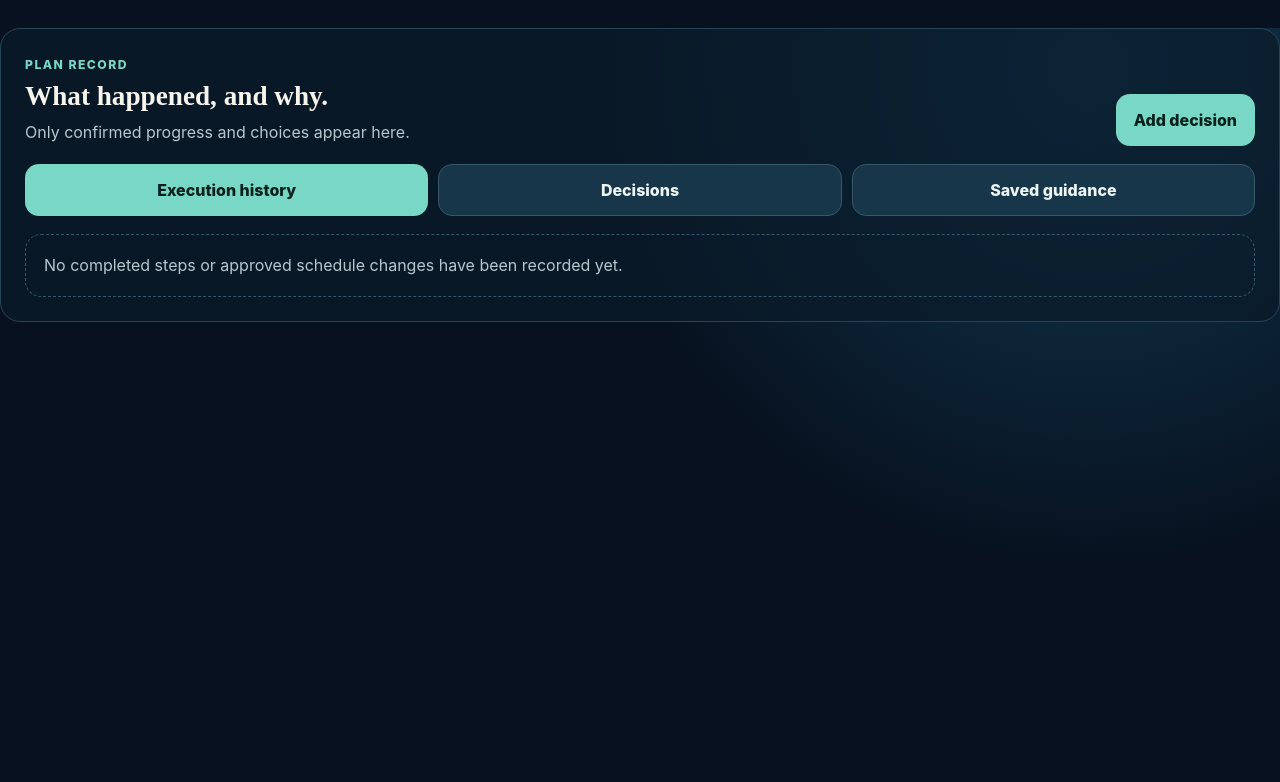
Test case: PlanRecordSection › keeps the decision draft through cancellation and performs no write
Check: the text "No completed steps" is shown, box [44,255,623,275]
Click the button "Add decision" at (1185, 120), box [1116,94,1255,146]
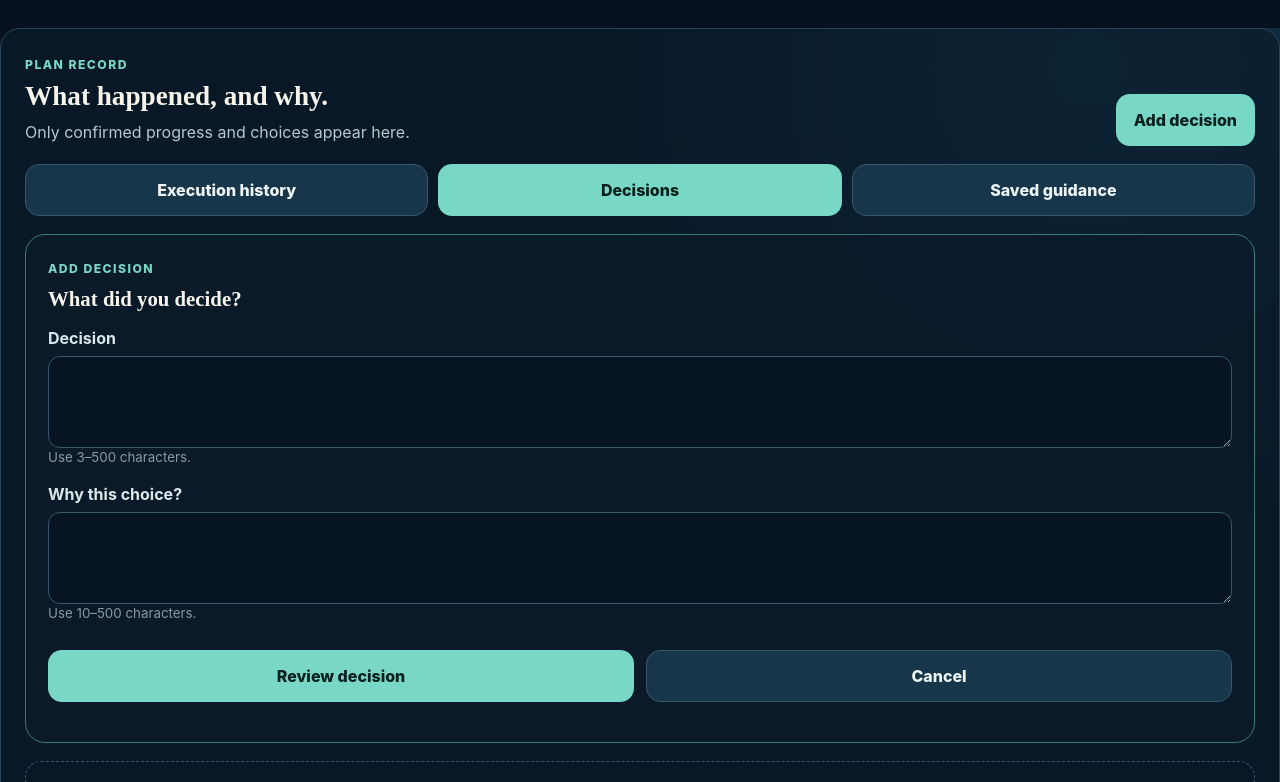
Type "Keep this exact draft." into the text box labelled "Decision" at (640, 402), box [48,356,1232,448]
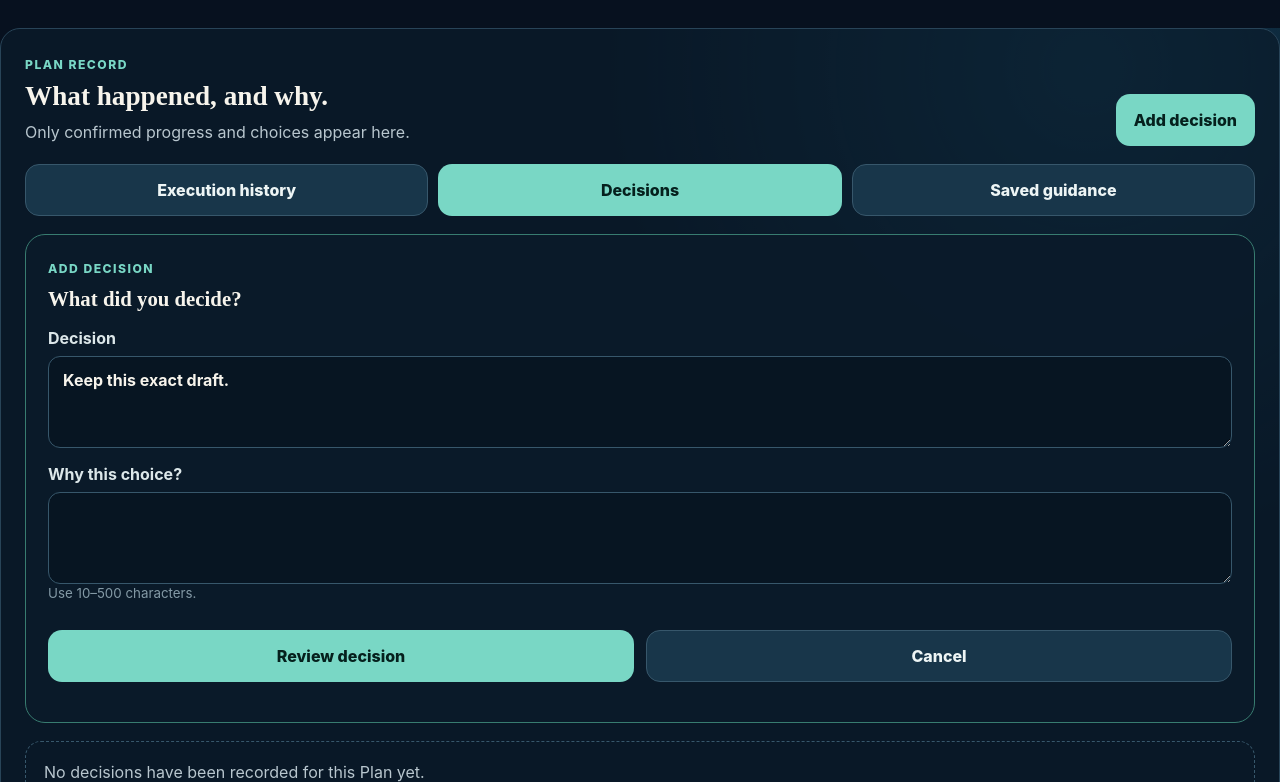
Type "The user may want to revise it before saving." into the text box labelled "Why this choice?" at (640, 538), box [48,492,1232,584]
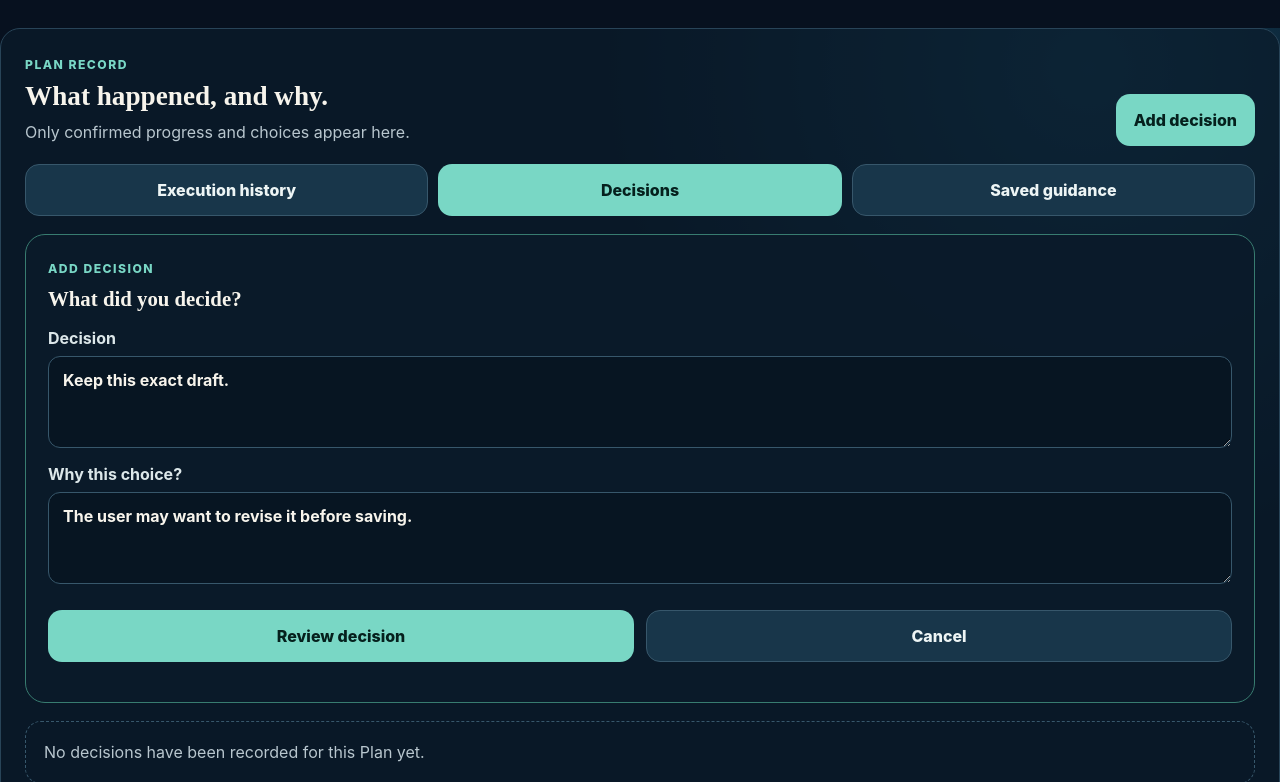
Click the button "Review decision" at (341, 636), box [48,610,634,662]
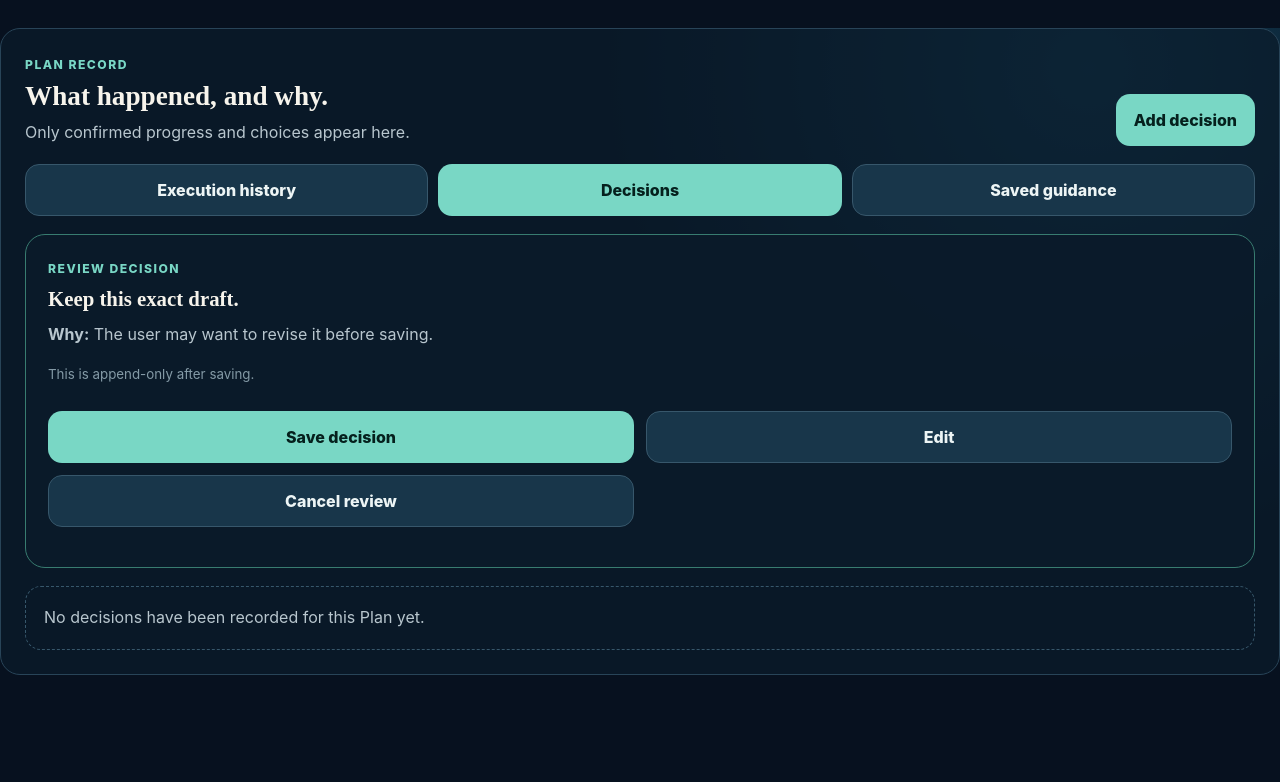
Click the button "Cancel review" at (341, 501), box [48,475,634,527]
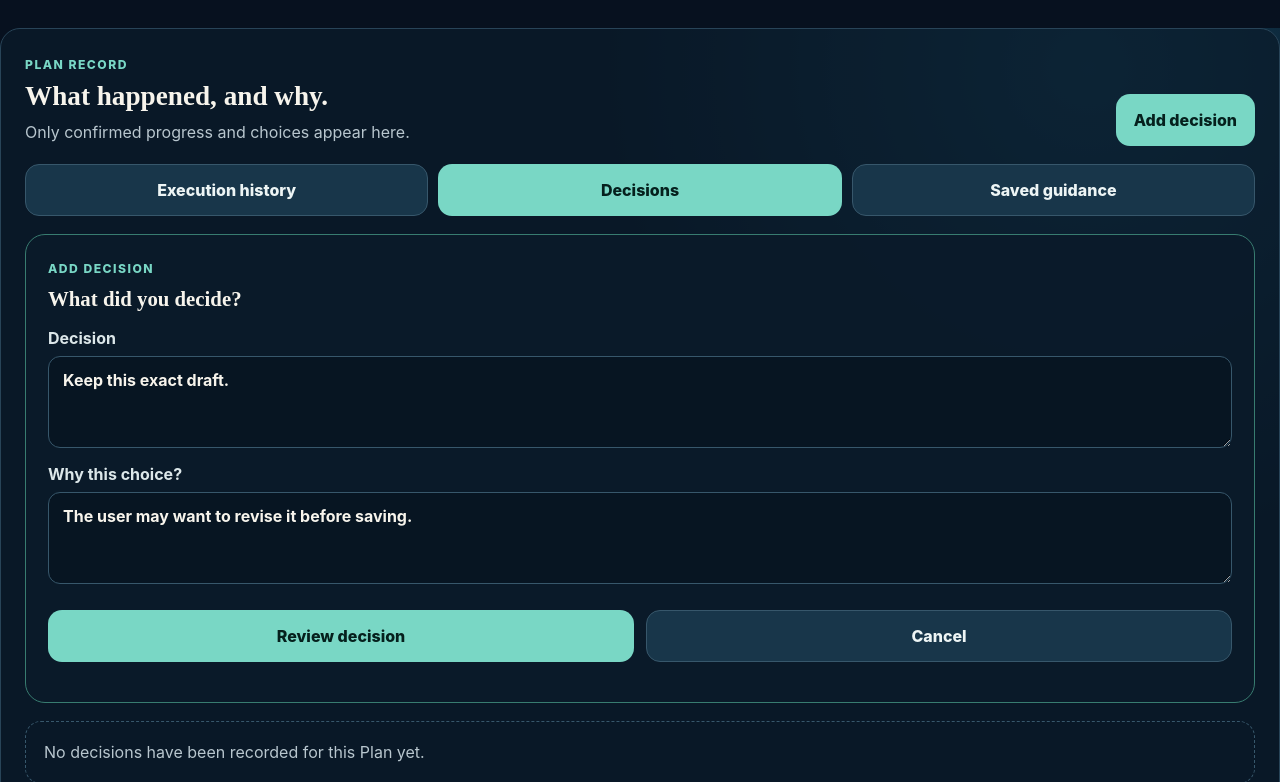
Check: the text box labelled "Decision" holds "Keep this exact draft.", box [48,356,1232,448]
